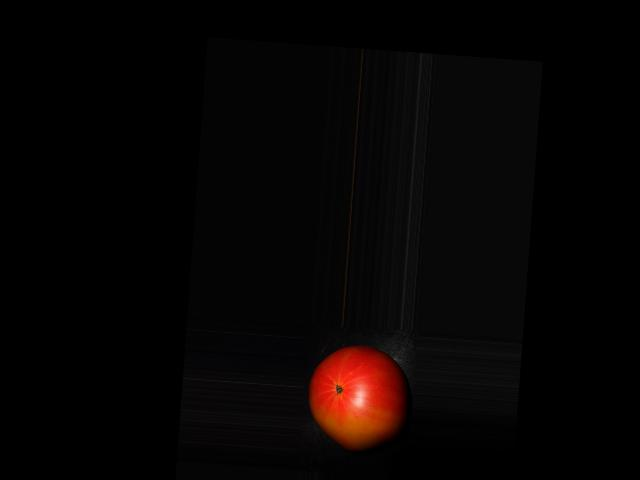tomato: (305, 342, 413, 454)
